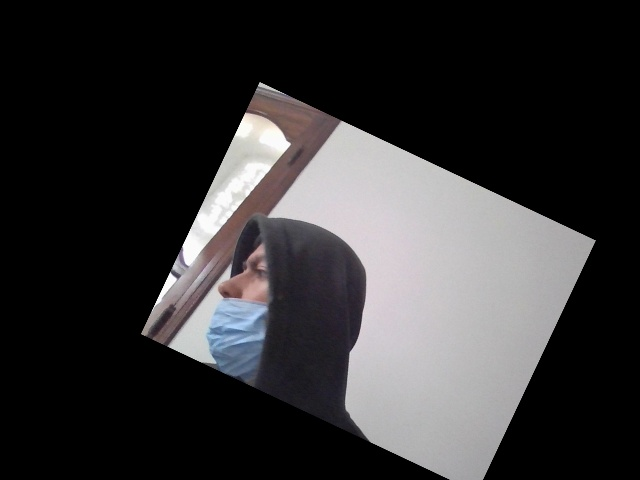mask_weared_incorrect: (205, 236, 290, 383)
